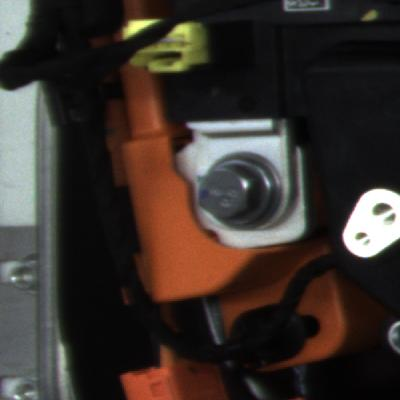nut_b: (190, 145, 297, 236)
